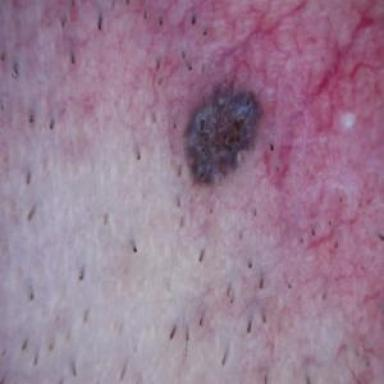Melanoma: (186, 88, 260, 183)
